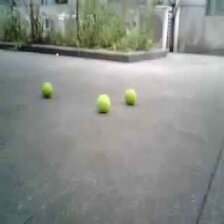tennis: (96, 94, 111, 112), (124, 89, 138, 105), (41, 82, 52, 98)
